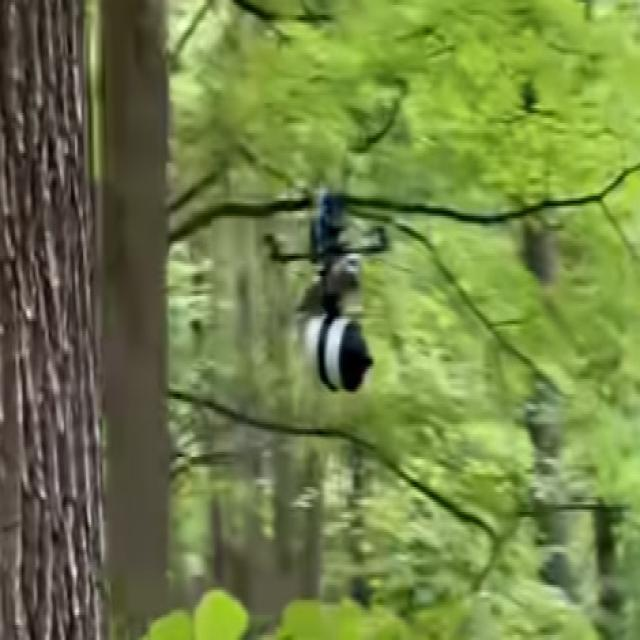drone: (261, 185, 403, 396)
